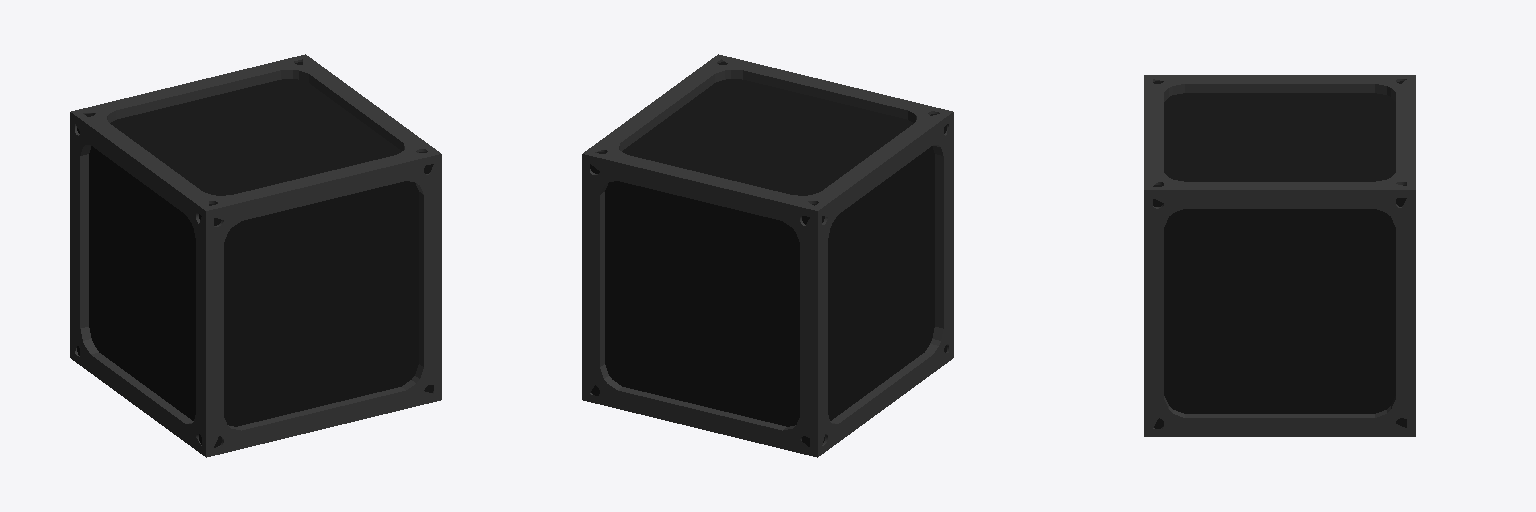
Rendered from Wall.obj.
3 views of the same model, side by side, from view 1: azimuth 30°, elevation 25°; view 2: azimuth 150°, elevation 25°; view 3: azimuth 270°, elevation 25° (orthographic).
Visible parts, largest first — view 1: Cube_Cube.002; view 2: Cube_Cube.002; view 3: Cube_Cube.002.
Part boxes in pixels (x1,y1,x2,y2): Cube_Cube.002: (70,54,441,457); Cube_Cube.002: (582,54,953,457); Cube_Cube.002: (1144,75,1415,436).
Size of the model in its own units: 1 by 1 by 1.